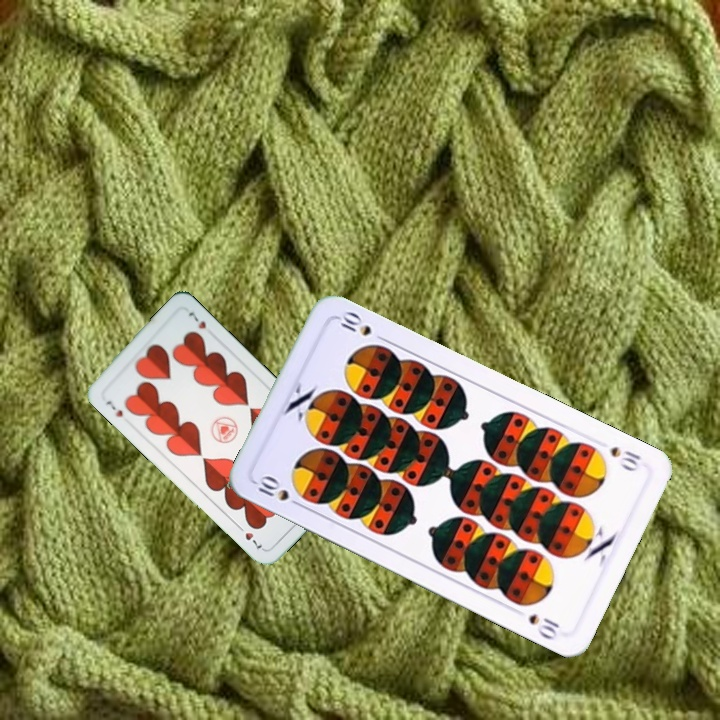H7: (101, 396, 126, 420)
S10: (251, 471, 306, 510), (606, 442, 643, 474)
